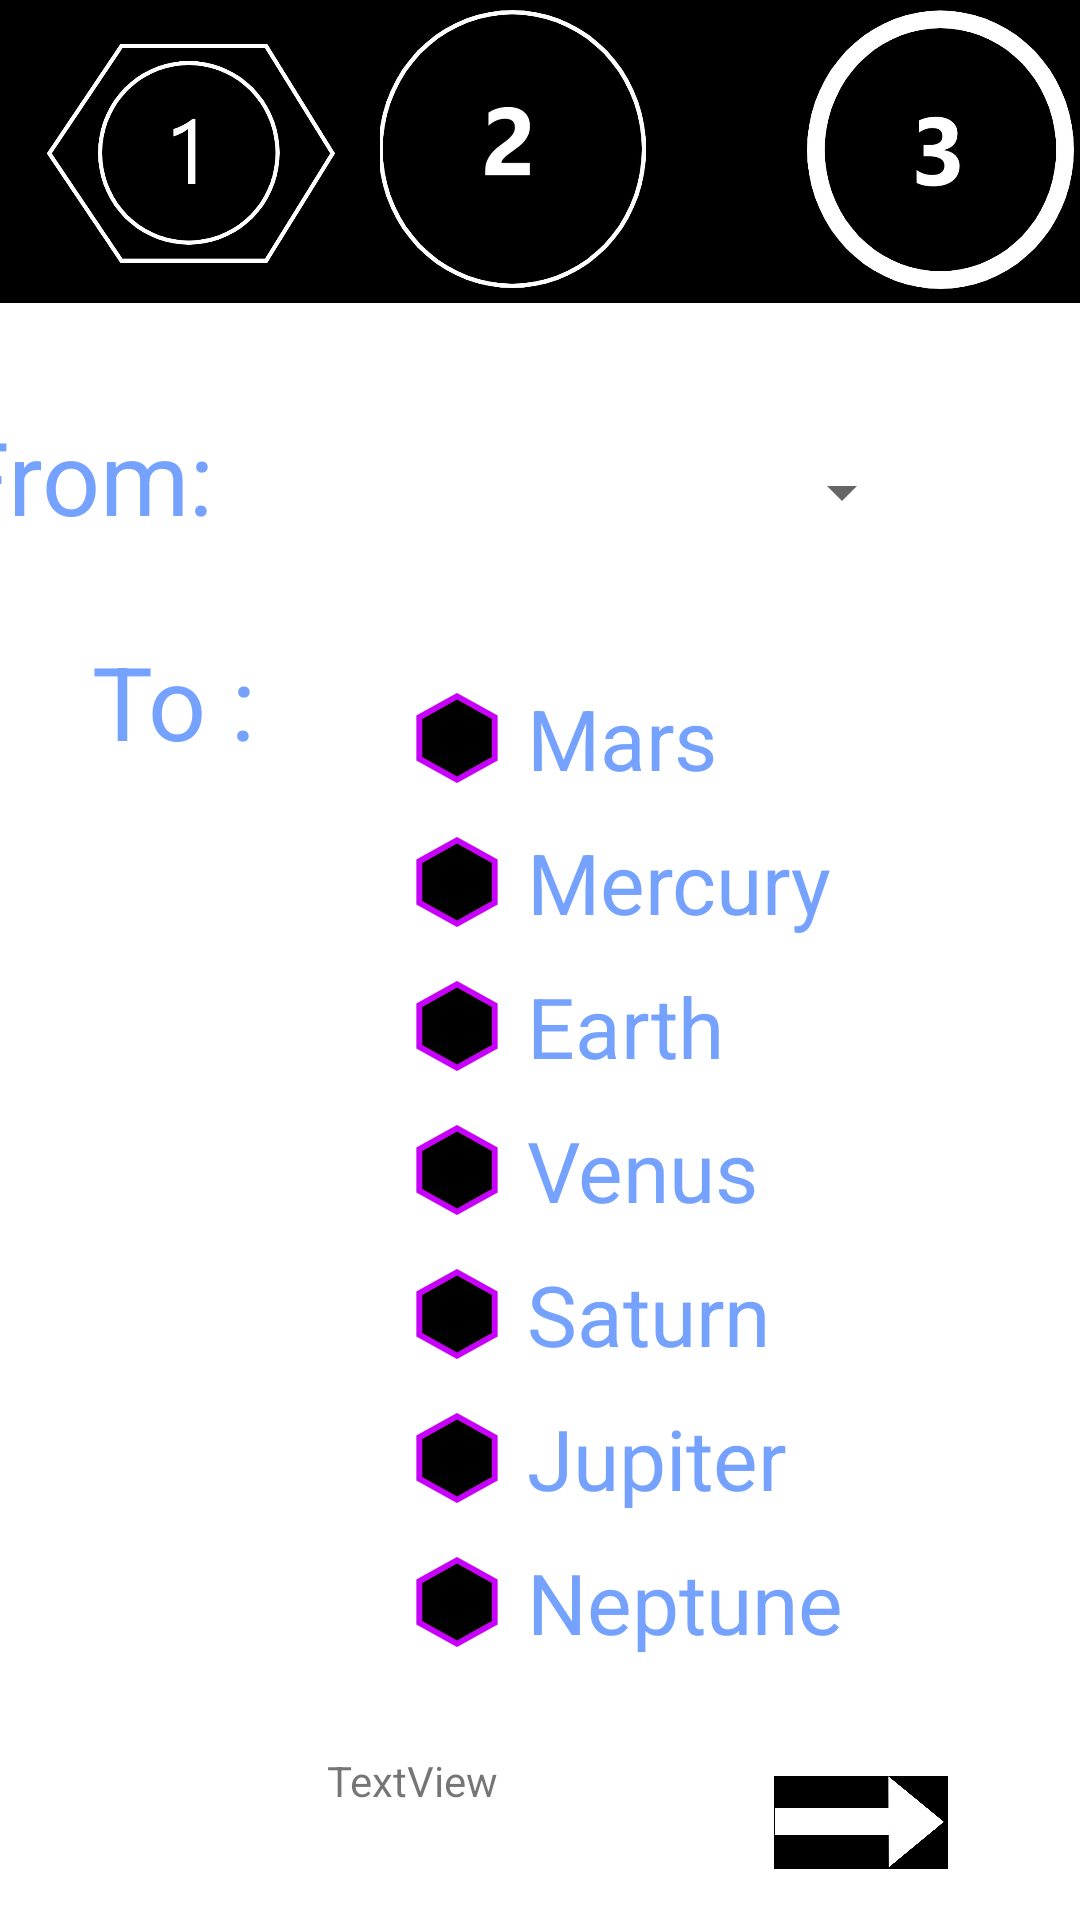

Screen size 1080 × 1920. Icon name, then its center in pixels as (x=x, y=y):
arrow: (x=861, y=1822)
